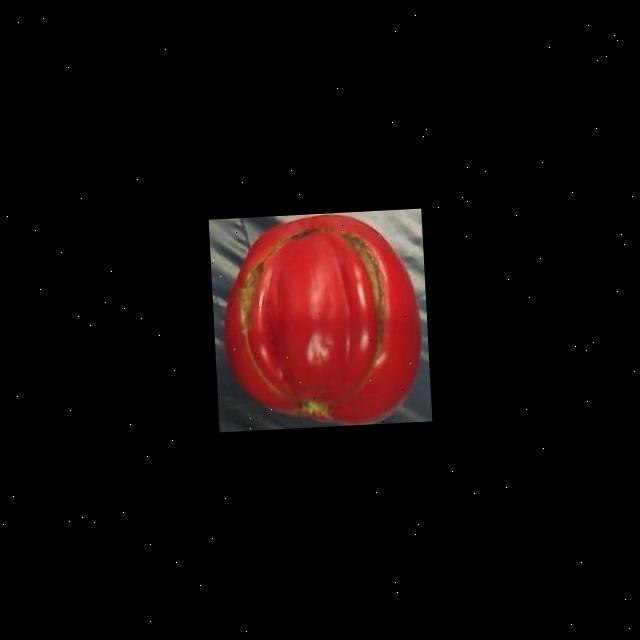tomato: (215, 208, 427, 430)
